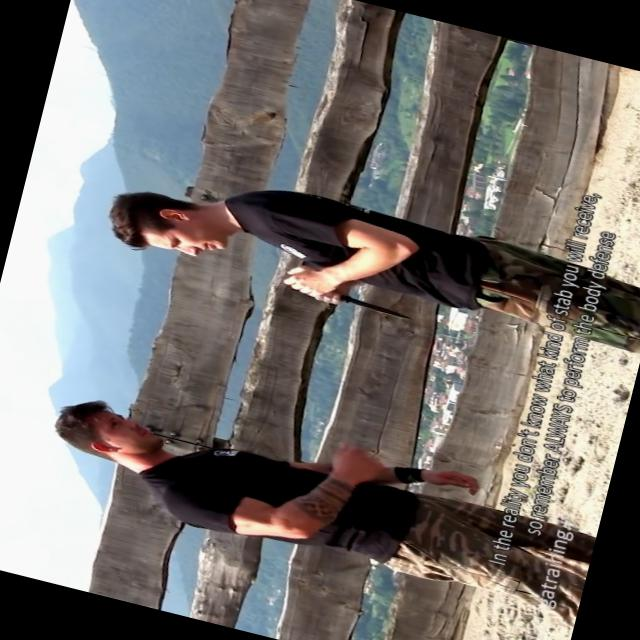knife: (276, 266, 420, 325)
